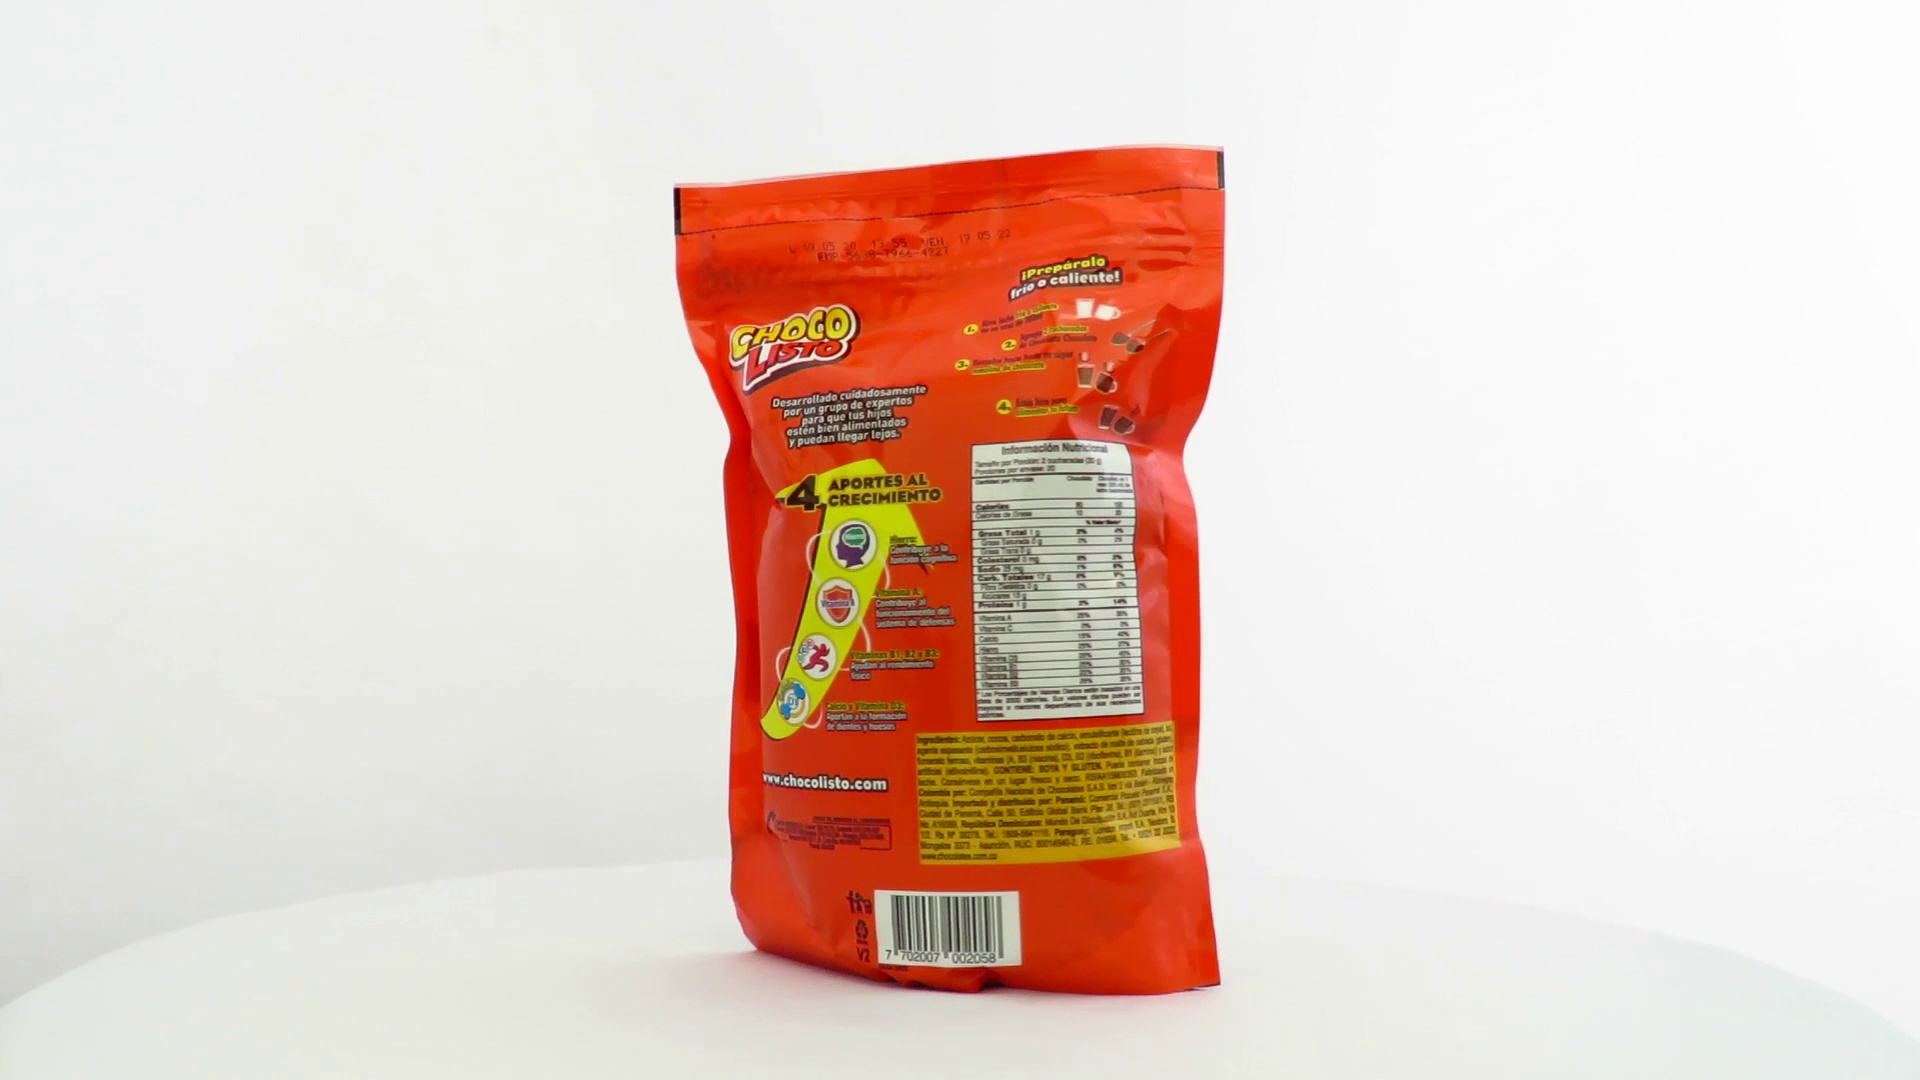COL0170103DYP40000: (669, 138, 1232, 1002)
